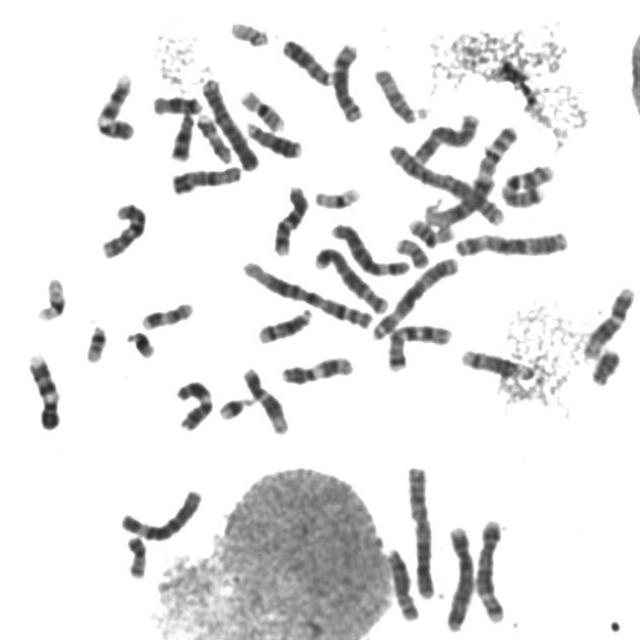A1: (236, 253, 378, 331), (422, 120, 520, 228)
A2: (385, 138, 508, 226), (402, 458, 440, 601)
A3: (367, 250, 463, 341), (449, 223, 573, 259)
B4: (196, 71, 262, 172), (439, 519, 477, 633)
B5: (310, 240, 392, 314), (472, 512, 510, 624)
C10: (268, 178, 312, 257), (96, 196, 150, 260)
C11: (276, 349, 357, 386), (170, 374, 217, 432)
C12: (579, 280, 638, 360), (238, 361, 292, 436)
C6: (116, 482, 206, 543), (327, 216, 412, 278)
C7: (382, 316, 457, 373), (496, 157, 558, 209)
C8: (327, 36, 366, 124), (381, 542, 423, 622)
C9: (91, 66, 139, 142), (22, 346, 64, 431)
D13: (278, 31, 338, 87), (240, 114, 306, 160)
D14: (456, 341, 532, 380), (254, 301, 316, 345)
D15: (369, 60, 428, 125), (168, 158, 245, 196)
E16: (235, 83, 289, 133), (402, 211, 458, 247)
E17: (192, 107, 236, 165), (136, 295, 197, 331)
E18: (166, 106, 198, 162), (148, 88, 206, 116)
F19: (32, 270, 70, 322), (309, 179, 364, 211)
F20: (391, 230, 432, 270), (121, 528, 151, 580)
G21: (214, 389, 258, 422), (122, 324, 158, 359)
G22: (225, 13, 273, 48), (80, 318, 111, 364)
X: (409, 106, 483, 166)
Y: (585, 341, 625, 387)
